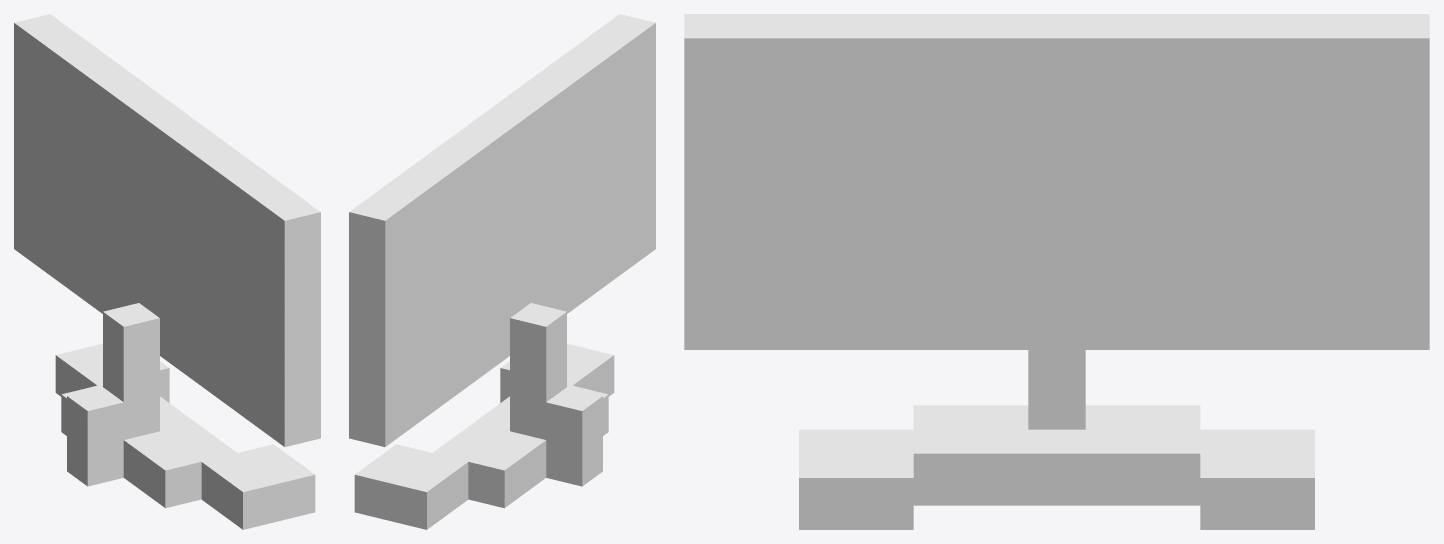
Rendered from Monitor1.gltf.
3 renders of one model, left to right at view 1: azimuth 30°, elevation 25°; view 2: azimuth 150°, elevation 25°; view 3: azimuth 270°, elevation 25°, orthographic. The views are drawn at different scales.
Bounding box in the file's own units: 4 × 9 × 13.
1 material, 1 textured.
